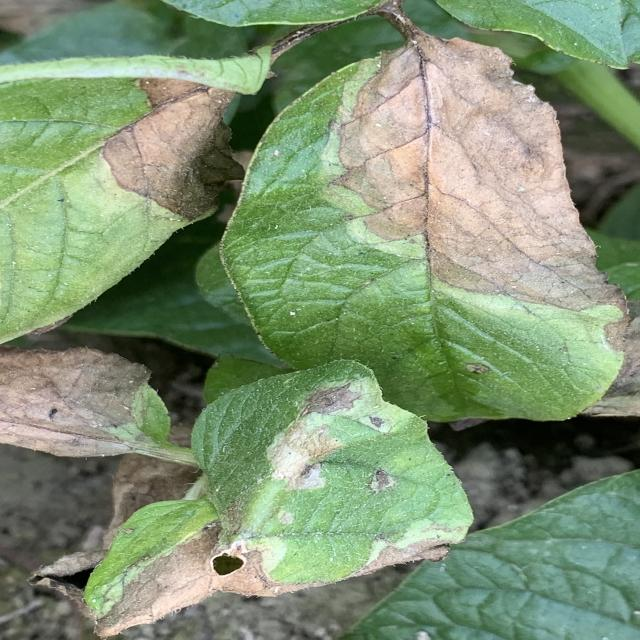lateblight: (332, 28, 622, 310), (102, 79, 243, 221), (127, 520, 287, 622), (0, 348, 150, 456), (267, 379, 410, 490), (342, 539, 458, 578)
